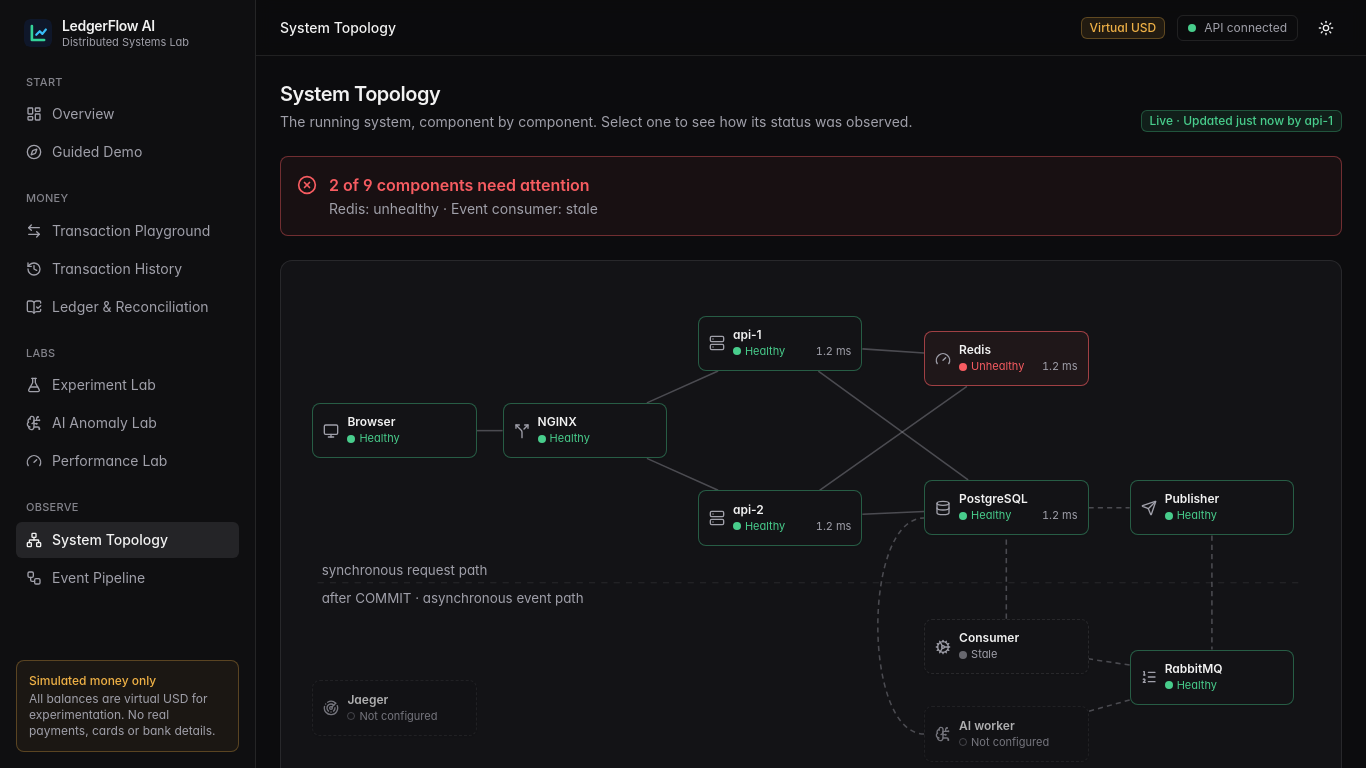
Scenario: live system topology › reports failures exactly as the backend observed them
The width and height of the screenshot is (1366, 768).
Check: the text "2 of 9 components need attention" is shown, box x1=329 y1=175 x2=590 y2=195
Click the button "Redis Unhealthy 1.2 ms".
click(1006, 359)  # box x1=924 y1=331 x2=1089 y2=386
(page scrolled)
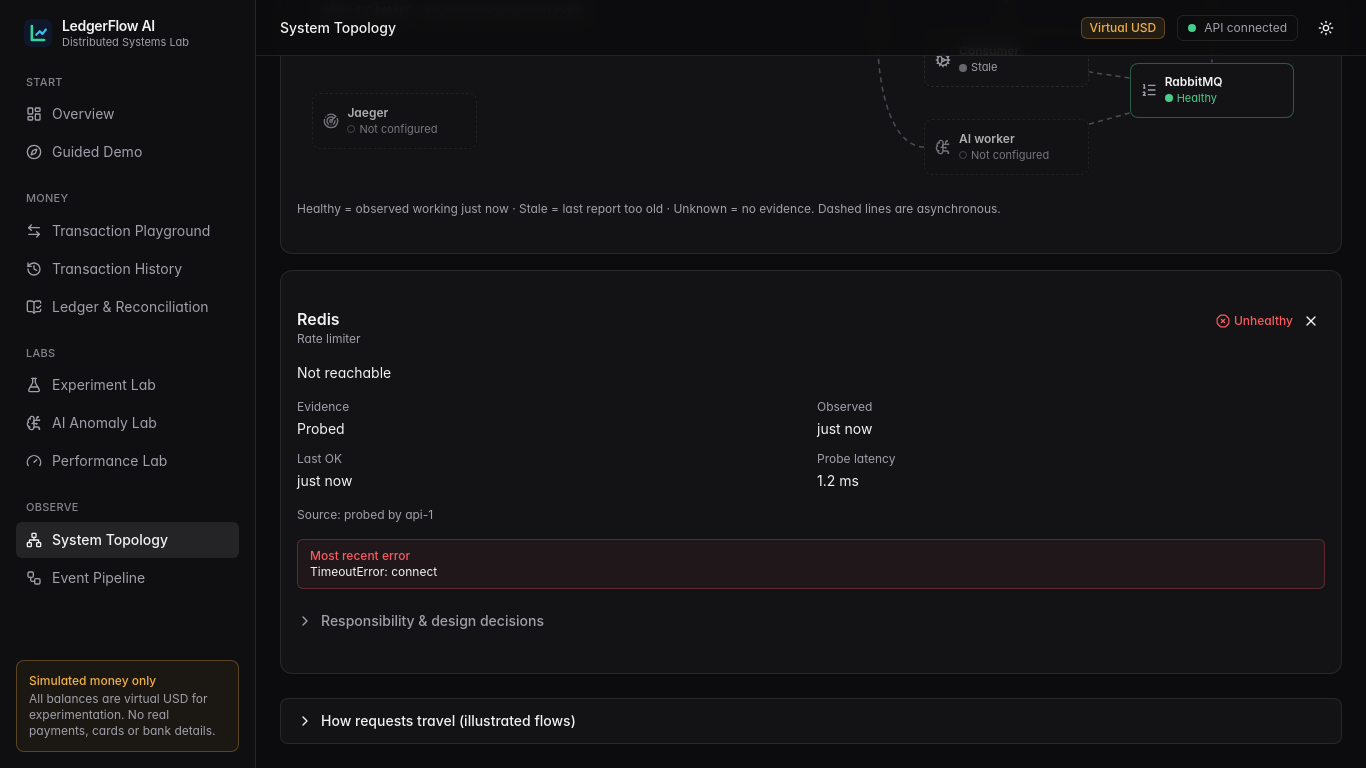
Check: the text "Not reachable" is shown, box x1=297 y1=364 x2=391 y2=381
Check: the text "TimeoutError: connect" is shown, box x1=310 y1=564 x2=437 y2=579
Check: the text "Probed" is shown, box x1=297 y1=420 x2=345 y2=437
